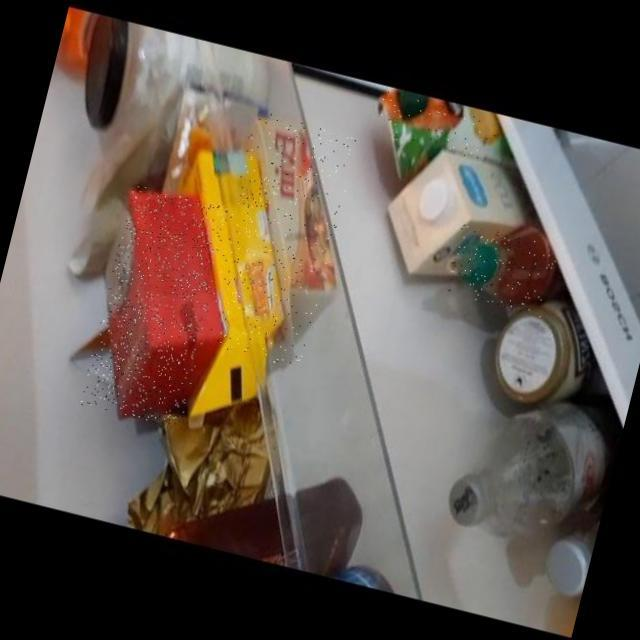Mantequilla: (196, 108, 359, 369)
